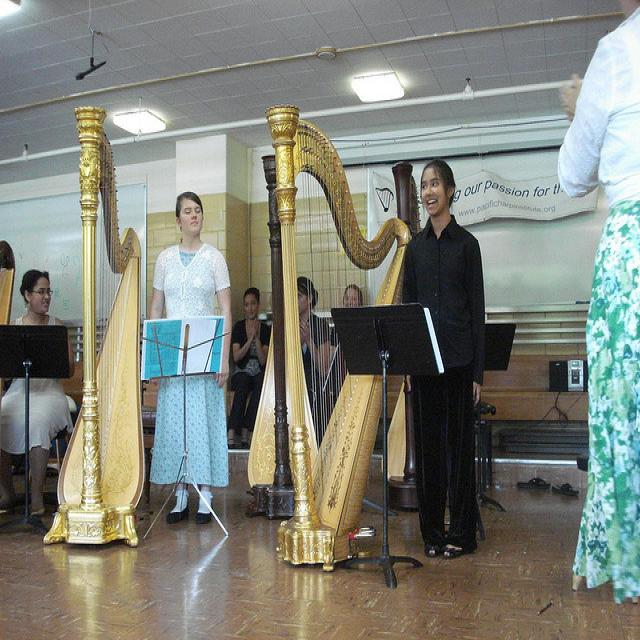harp: (271, 102, 416, 574), (249, 161, 400, 522), (41, 101, 145, 552), (390, 161, 431, 514)
